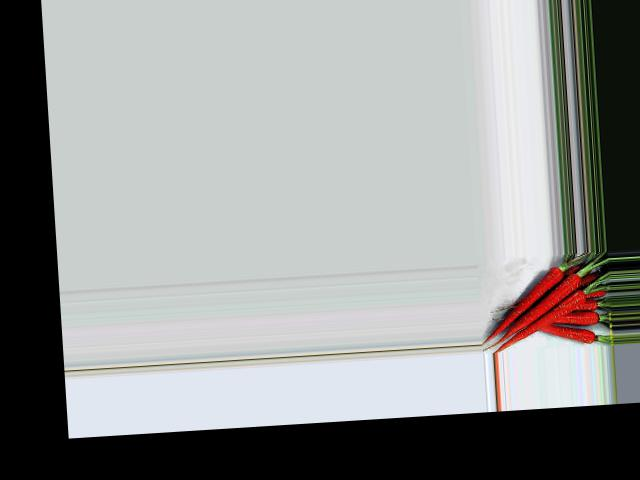carrot: (538, 319, 598, 349)
